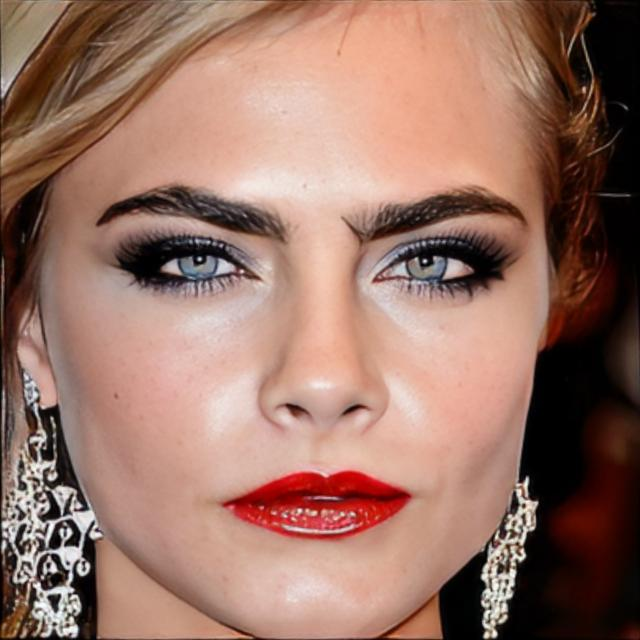content: (38, 0, 546, 640)
